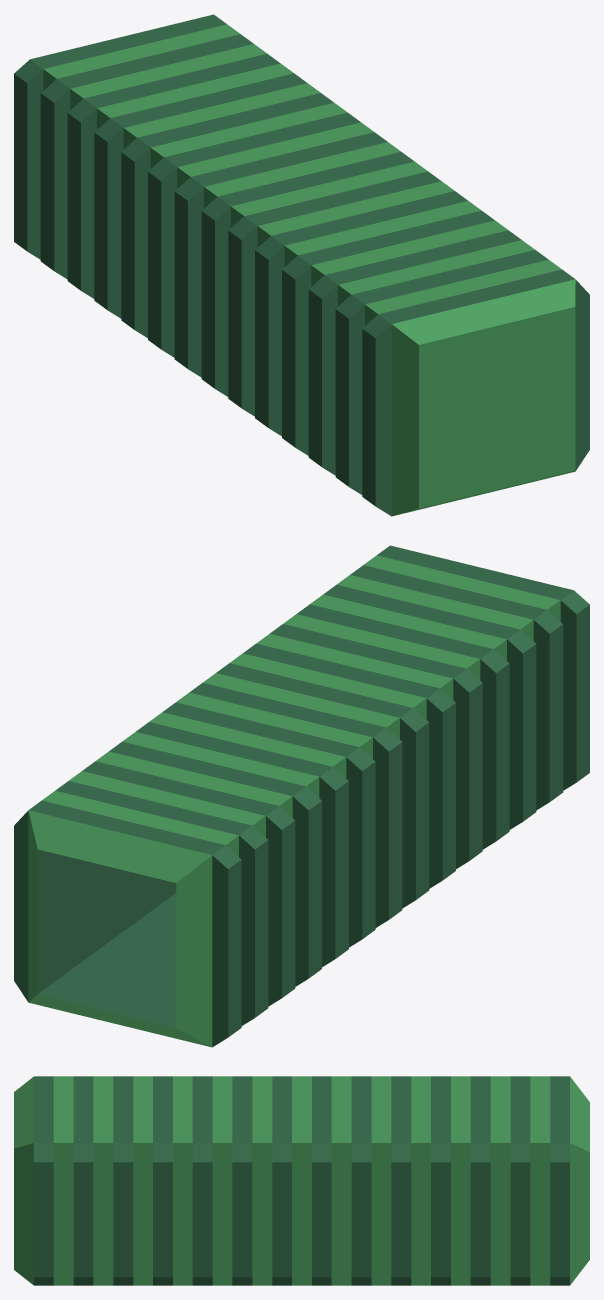
The model's file is Container.fbx.
3 renders of one model, top to bottom at view 1: azimuth 30°, elevation 25°; view 2: azimuth 150°, elevation 25°; view 3: azimuth 270°, elevation 25°, orthographic. The views are drawn at different scales.
Parts seen in each view (by area): view 1: Cube; view 2: Cube; view 3: Cube.
Boxes of the visible parts, x1,y1,x2,y2 form: Cube: (14,14,589,516); Cube: (14,545,589,1047); Cube: (14,1076,589,1285).
Bounding box in the file's own units: 538 × 461 × 1689.
